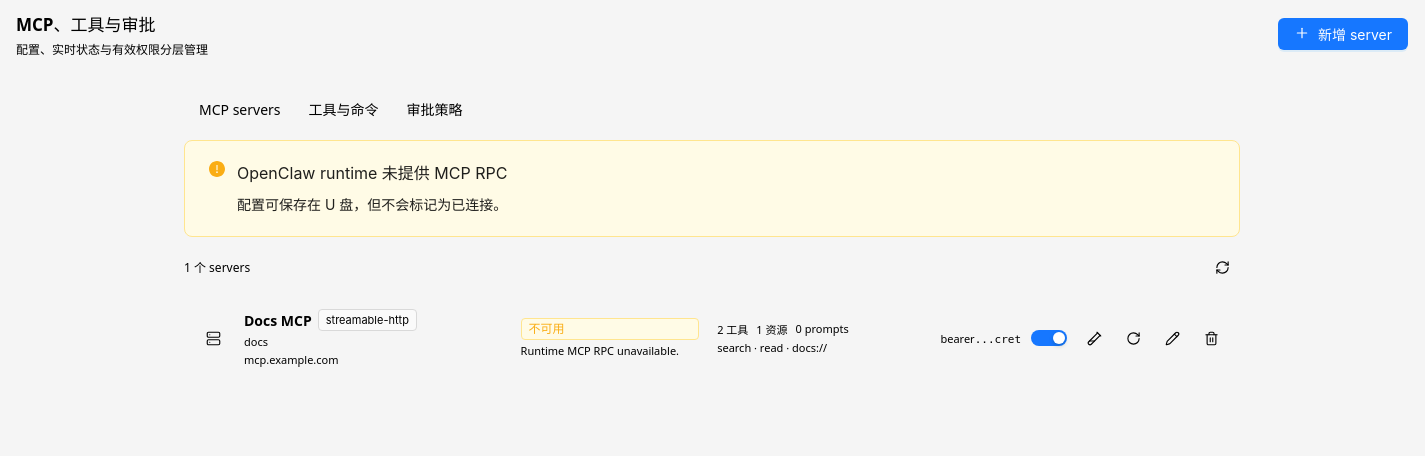
Test: McpManager › shows catalog, effective tools, commands, and server probe as separate layers
This screenshot has width=1425, height=456.
Expected: the text "Docs MCP" is shown, [244,311,312,330]
Click the button "工具与命令". click: (344, 109)
box: [296,93,390,125]
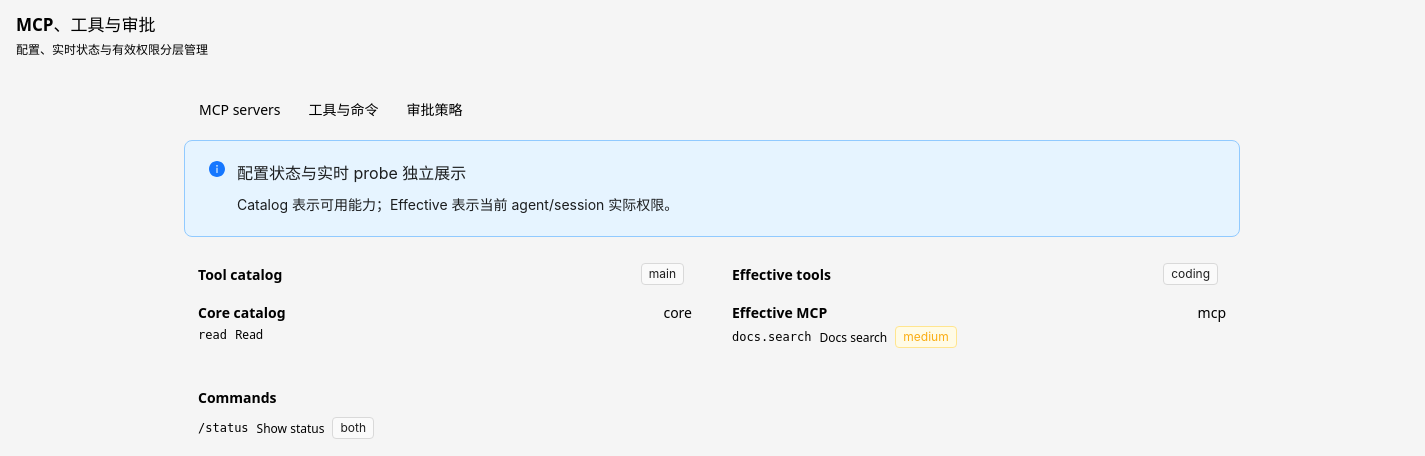
Expected: the text "Core catalog" is shown, [198,303,286,322]
Expected: the text "Effective MCP" is shown, [732,303,827,322]
Expected: the text "/status" is shown, [198,421,249,435]
